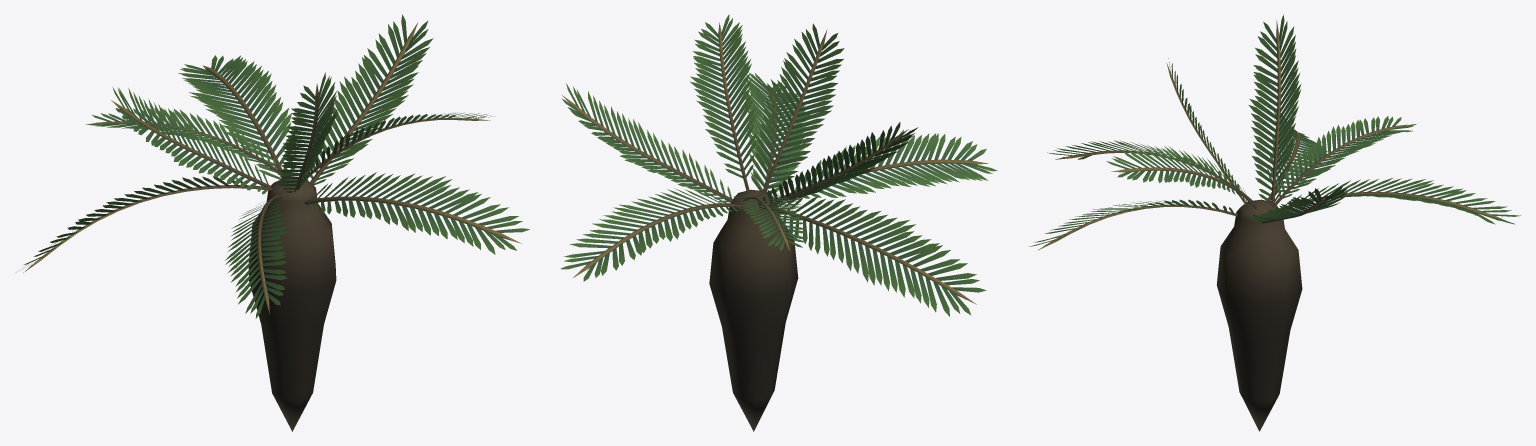
File: trees-palms-ferns-sago-palm_v3.glb
3 renders of one model, left to right at view 1: azimuth 30°, elevation 25°; view 2: azimuth 150°, elevation 25°; view 3: azimuth 270°, elevation 25°, orthographic. The views are drawn at different scales.
Parts seen in each view (by area): view 1: Sago Palm_v3; view 2: Sago Palm_v3; view 3: Sago Palm_v3.
Boxes of the visible parts, bbox=[...] form: Sago Palm_v3: bbox=[16, 14, 529, 431]; Sago Palm_v3: bbox=[560, 14, 997, 431]; Sago Palm_v3: bbox=[1028, 14, 1521, 431].
Bounding box in the file's own units: 1.81 × 1.62 × 2.
